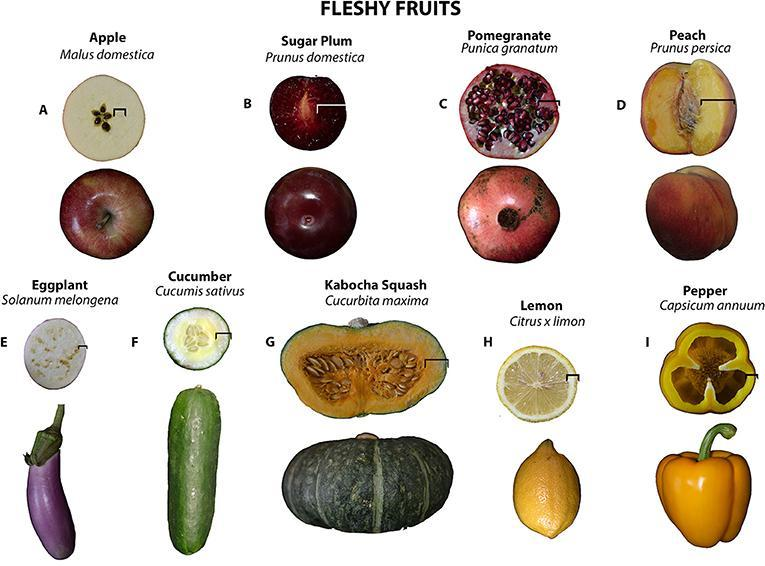apple: (61, 169, 154, 259)
